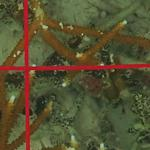alive: (2, 1, 148, 147)
